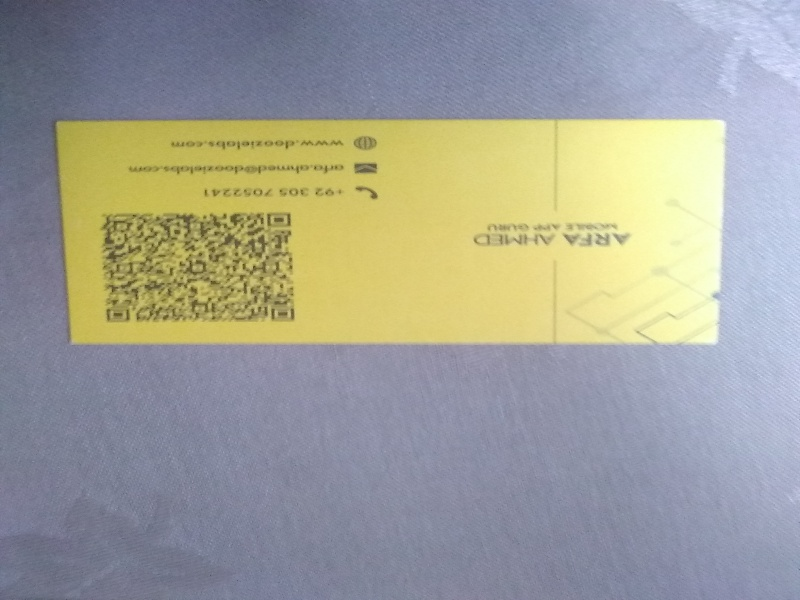front: (51, 115, 727, 347)
